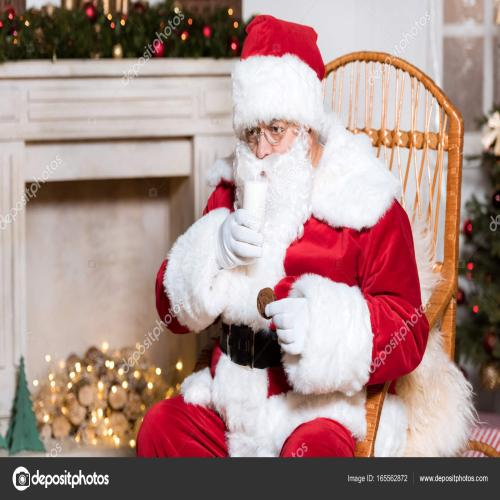Santa: (138, 14, 430, 458)
